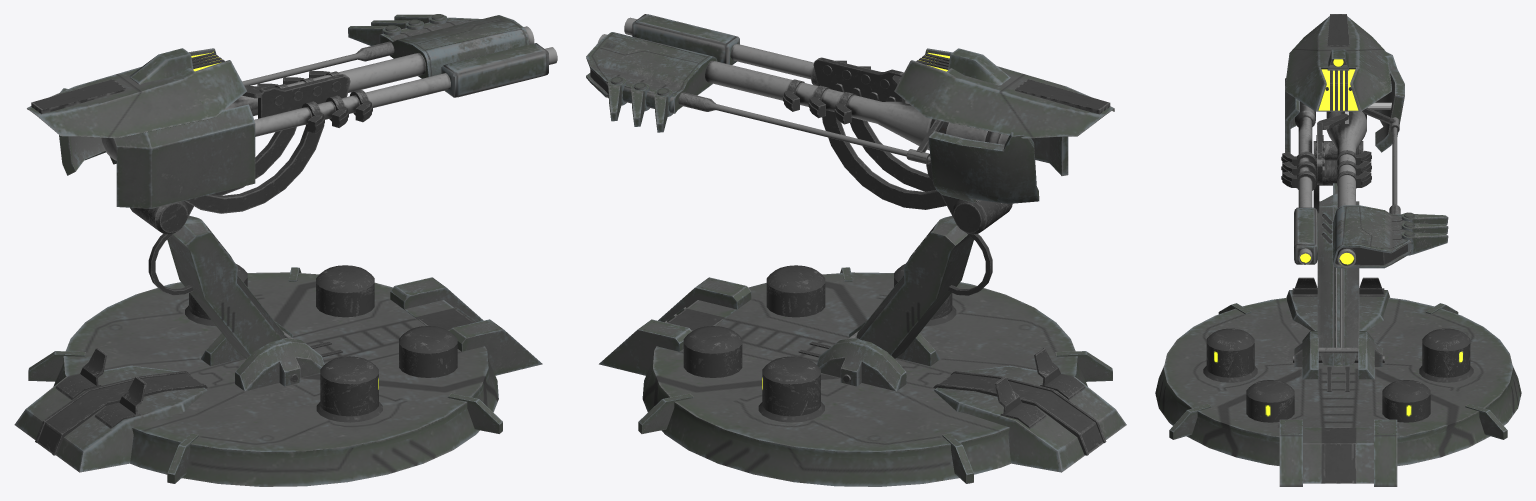
The model's file is turret_laser.glb.
3 views of the same model, side by side, from view 1: azimuth 30°, elevation 25°; view 2: azimuth 150°, elevation 25°; view 3: azimuth 270°, elevation 25° (orthographic). The views are drawn at different scales.
Parts seen in each view (by area): view 1: Turret3; view 2: Turret3; view 3: Turret3.
Part boxes in pixels (left/top/right/bottom): Turret3: left=14, top=14, right=557, bottom=486; Turret3: left=586, top=14, right=1126, bottom=486; Turret3: left=1155, top=14, right=1521, bottom=486.
Size of the model in its own units: 201 by 140 by 155.
Materials: 1 (1 with a texture image).
